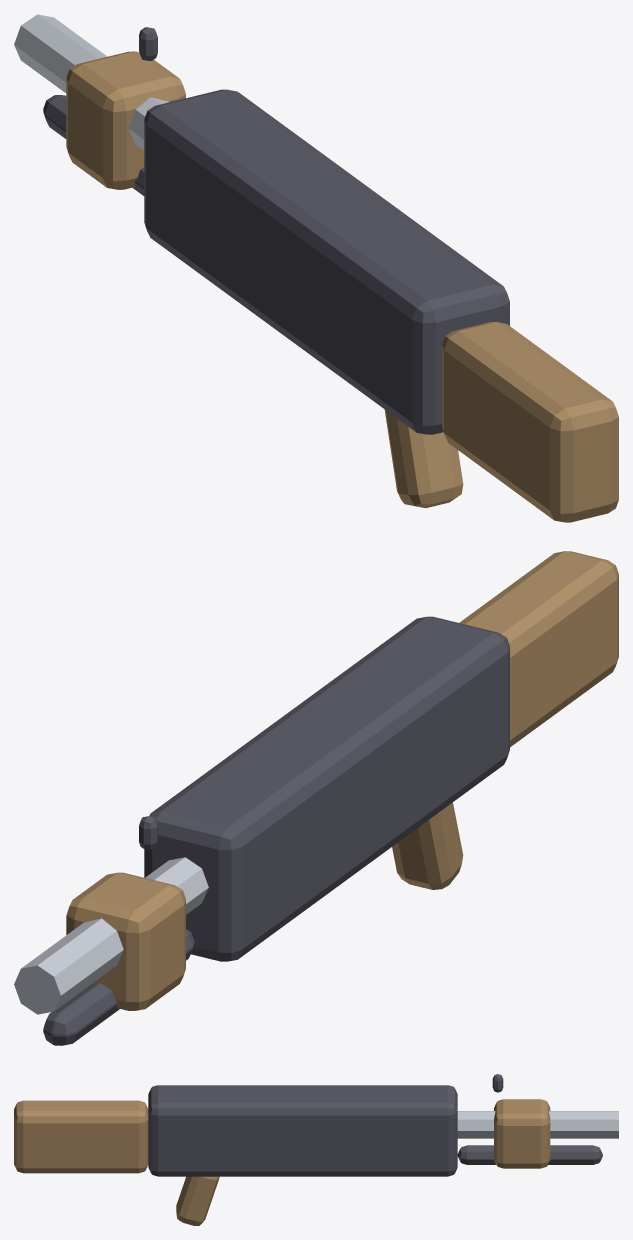
The model's file is trueno.glb.
3 views of the same model, one above another, from view 1: azimuth 30°, elevation 25°; view 2: azimuth 150°, elevation 25°; view 3: azimuth 270°, elevation 25° (orthographic). The views are drawn at different scales.
Visible parts, largest first — view 1: body, stock, pump, grip, barrel, magazine_tube; view 2: body, stock, pump, barrel, grip, magazine_tube; view 3: body, stock, pump, barrel, magazine_tube, grip.
Boxes of the visible parts, <box> form: body: <box>144,89,509,434</box>; stock: <box>442,322,618,522</box>; pump: <box>66,51,185,189</box>; grip: <box>384,409,463,508</box>; barrel: <box>14,14,169,150</box>; magazine_tube: <box>43,95,144,195</box>; body: <box>144,616,509,961</box>; stock: <box>459,551,618,747</box>; pump: <box>66,872,185,1010</box>; barrel: <box>14,857,208,1014</box>; grip: <box>392,802,463,889</box>; magazine_tube: <box>43,929,194,1045</box>; body: <box>148,1085,457,1176</box>; stock: <box>14,1100,148,1173</box>; pump: <box>494,1099,550,1168</box>; barrel: <box>457,1111,618,1138</box>; magazine_tube: <box>457,1145,602,1164</box>; grip: <box>176,1176,219,1225</box>.
Size of the model in its own units: 0.09 by 0.2433 by 0.9.
